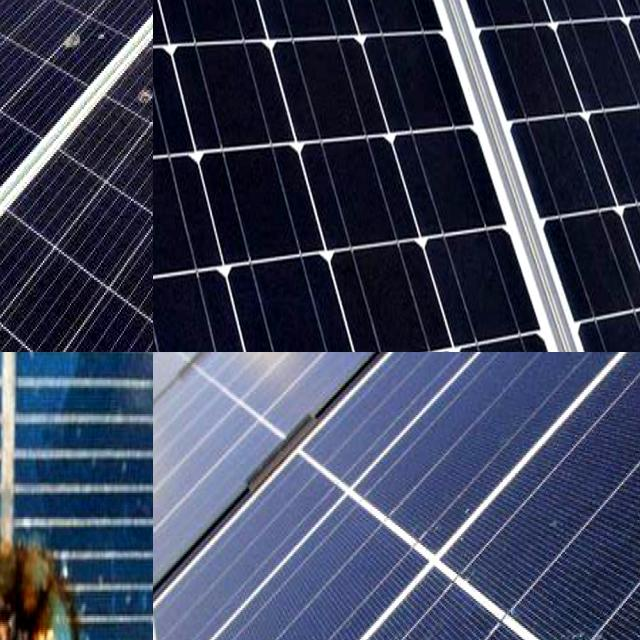bird: (56, 24, 114, 61), (79, 0, 125, 28), (132, 77, 153, 109), (7, 0, 38, 19), (104, 0, 130, 18)
crack: (153, 0, 616, 352), (153, 352, 640, 640), (411, 0, 640, 352)
shadow: (0, 510, 108, 640)
